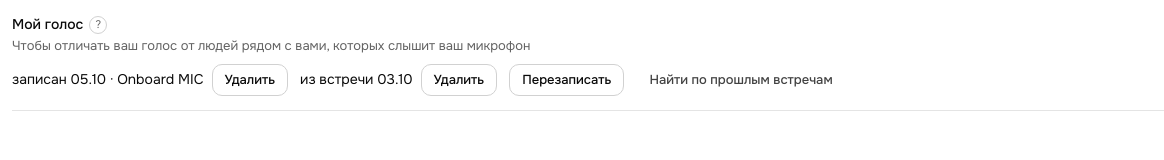
Test case: настройки: «Удалить» убирает образец
The image size is (1164, 160).
Click the button with aria-label "Удалить образец: из встречи 03.10" at (459, 80), box [421,64,497,96]
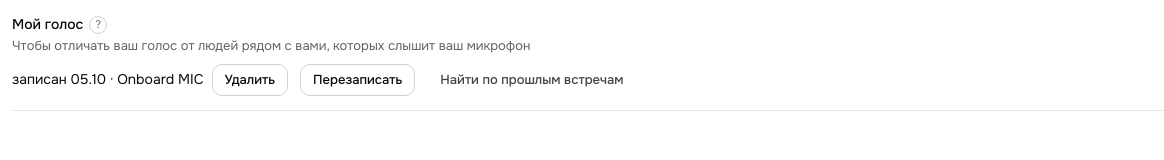
Expected: the text "записан 05.10 · Onboard MIC" is shown, [12,69,204,90]
Now the text "из встречи 03.10" is gone
